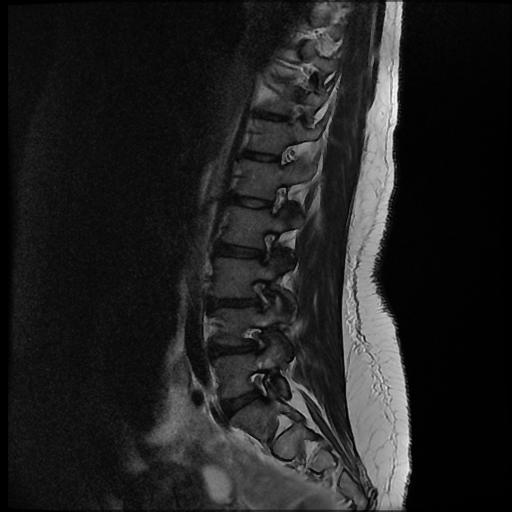RFS0: (234, 363, 286, 413), (233, 271, 282, 317), (249, 173, 295, 221), (244, 222, 288, 271), (232, 317, 278, 363)
